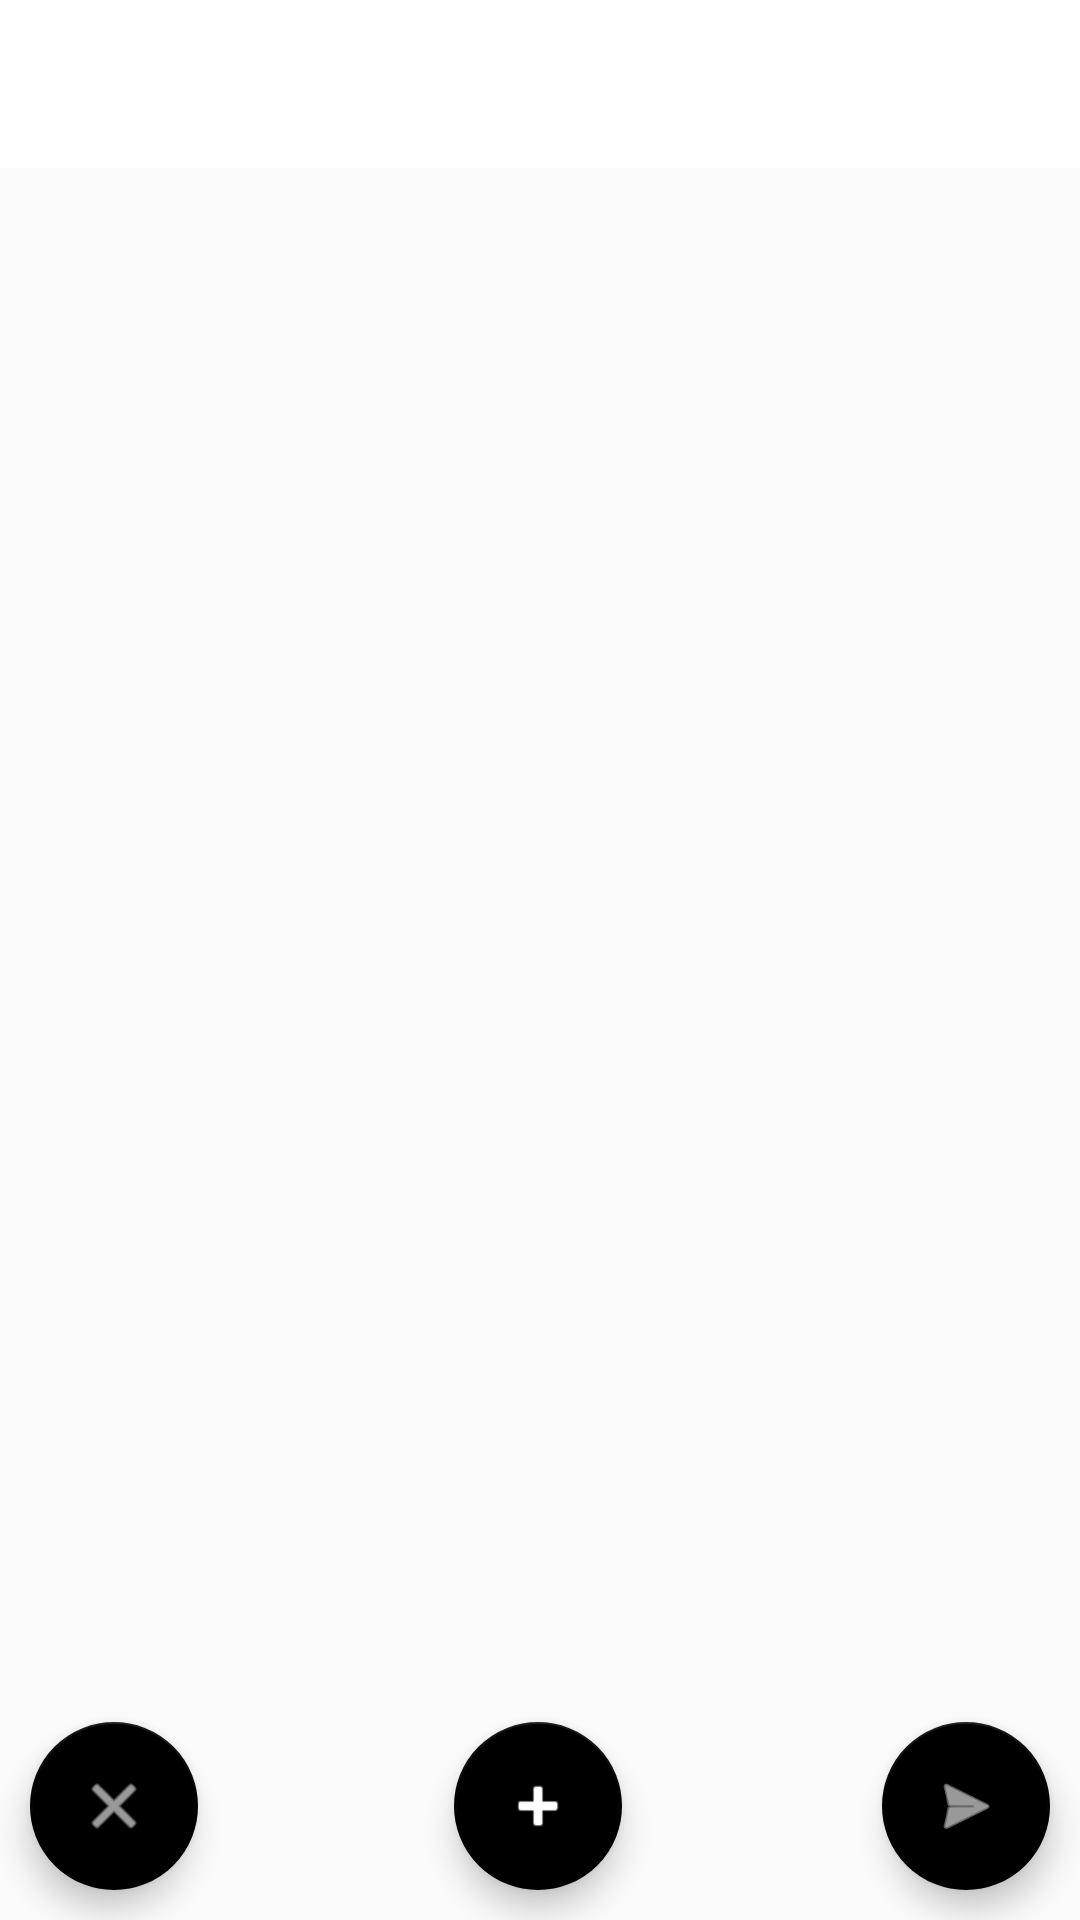

Named icons in this screenshot (1080px x 1920px) and their bounding boxes, [left=x1, top=y1, right=x2, bottom=y2]:
add: [left=454, top=1722, right=622, bottom=1890]
close clear cancel: [left=30, top=1722, right=198, bottom=1890]
send: [left=882, top=1722, right=1050, bottom=1890]
